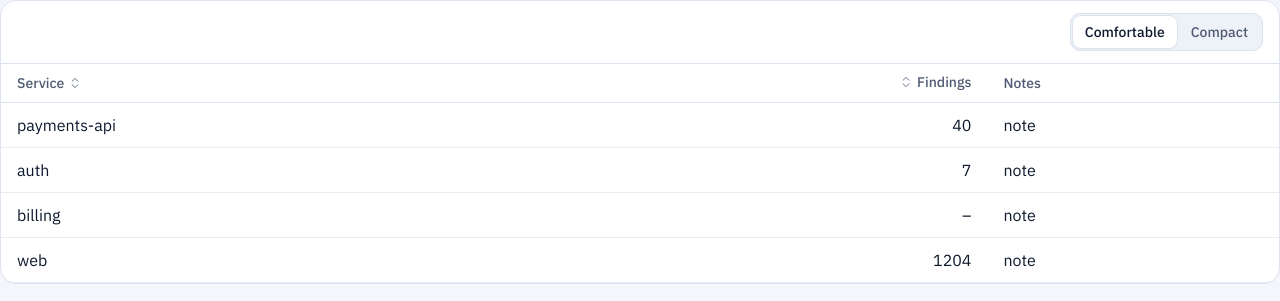
Test: DataTable › switches density from the toolbar
Click the radio button labelled "Compact". click: (1219, 32)
box: [1179,16,1260,48]
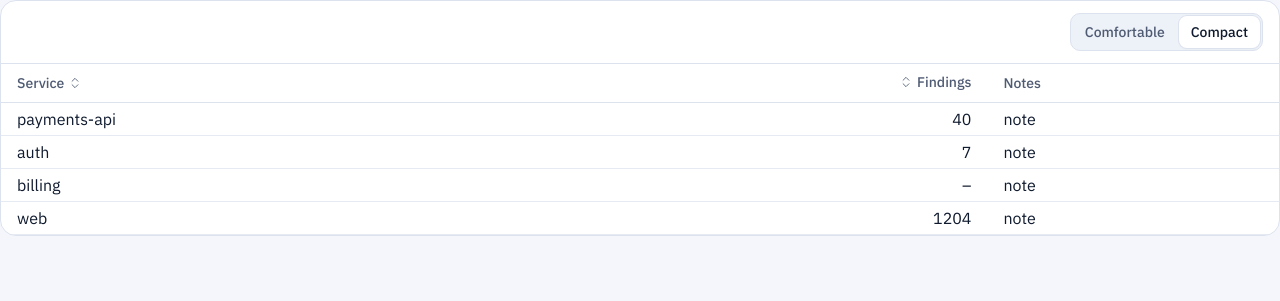
Now the cell "payments-api" has class "py-1", box [1,103,550,136]
